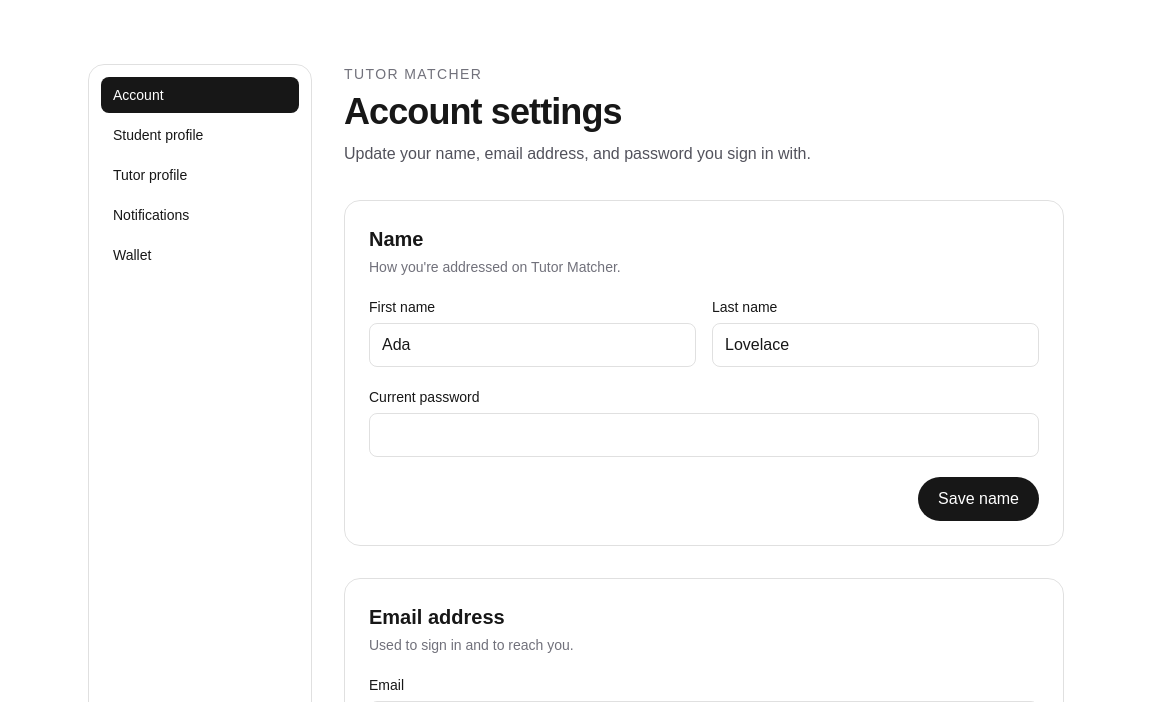
Test case: AccountSettingsPage › name block › does not send a request when the name is unchanged
Click the button "Save name" at (979, 499), box [918,477,1039,521]
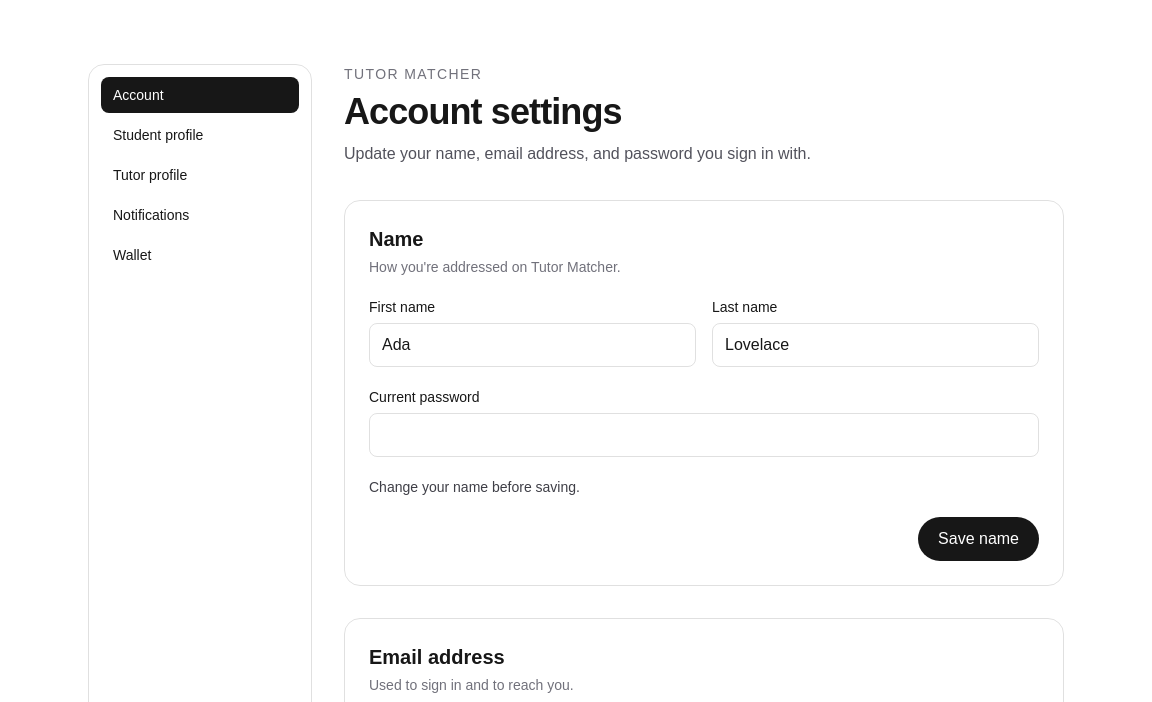
expect the text "Change your name before saving." is shown: met, box [369,479,580,495]
